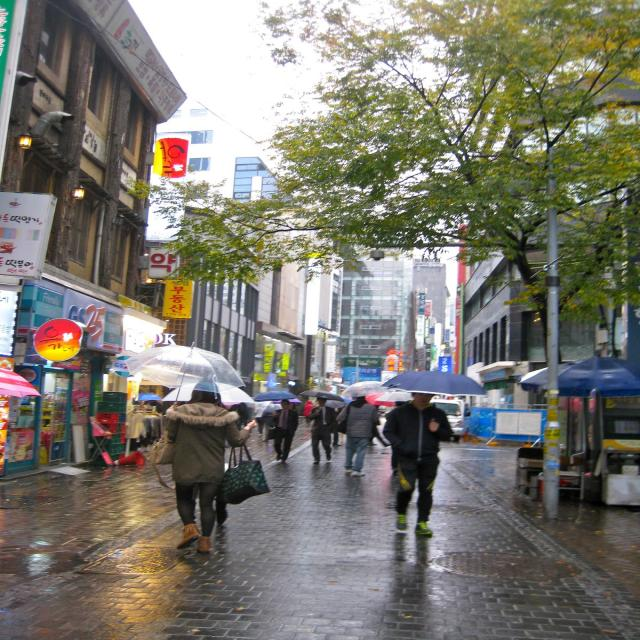body: (160, 378, 261, 554), (380, 392, 454, 537), (179, 396, 241, 526), (385, 526, 446, 637), (334, 396, 382, 478), (266, 398, 301, 463), (308, 394, 339, 466), (384, 402, 409, 476), (143, 385, 186, 417), (368, 404, 392, 448), (262, 401, 281, 443), (227, 402, 249, 432), (332, 405, 344, 447), (253, 406, 268, 436), (302, 399, 316, 426), (286, 402, 300, 412)
